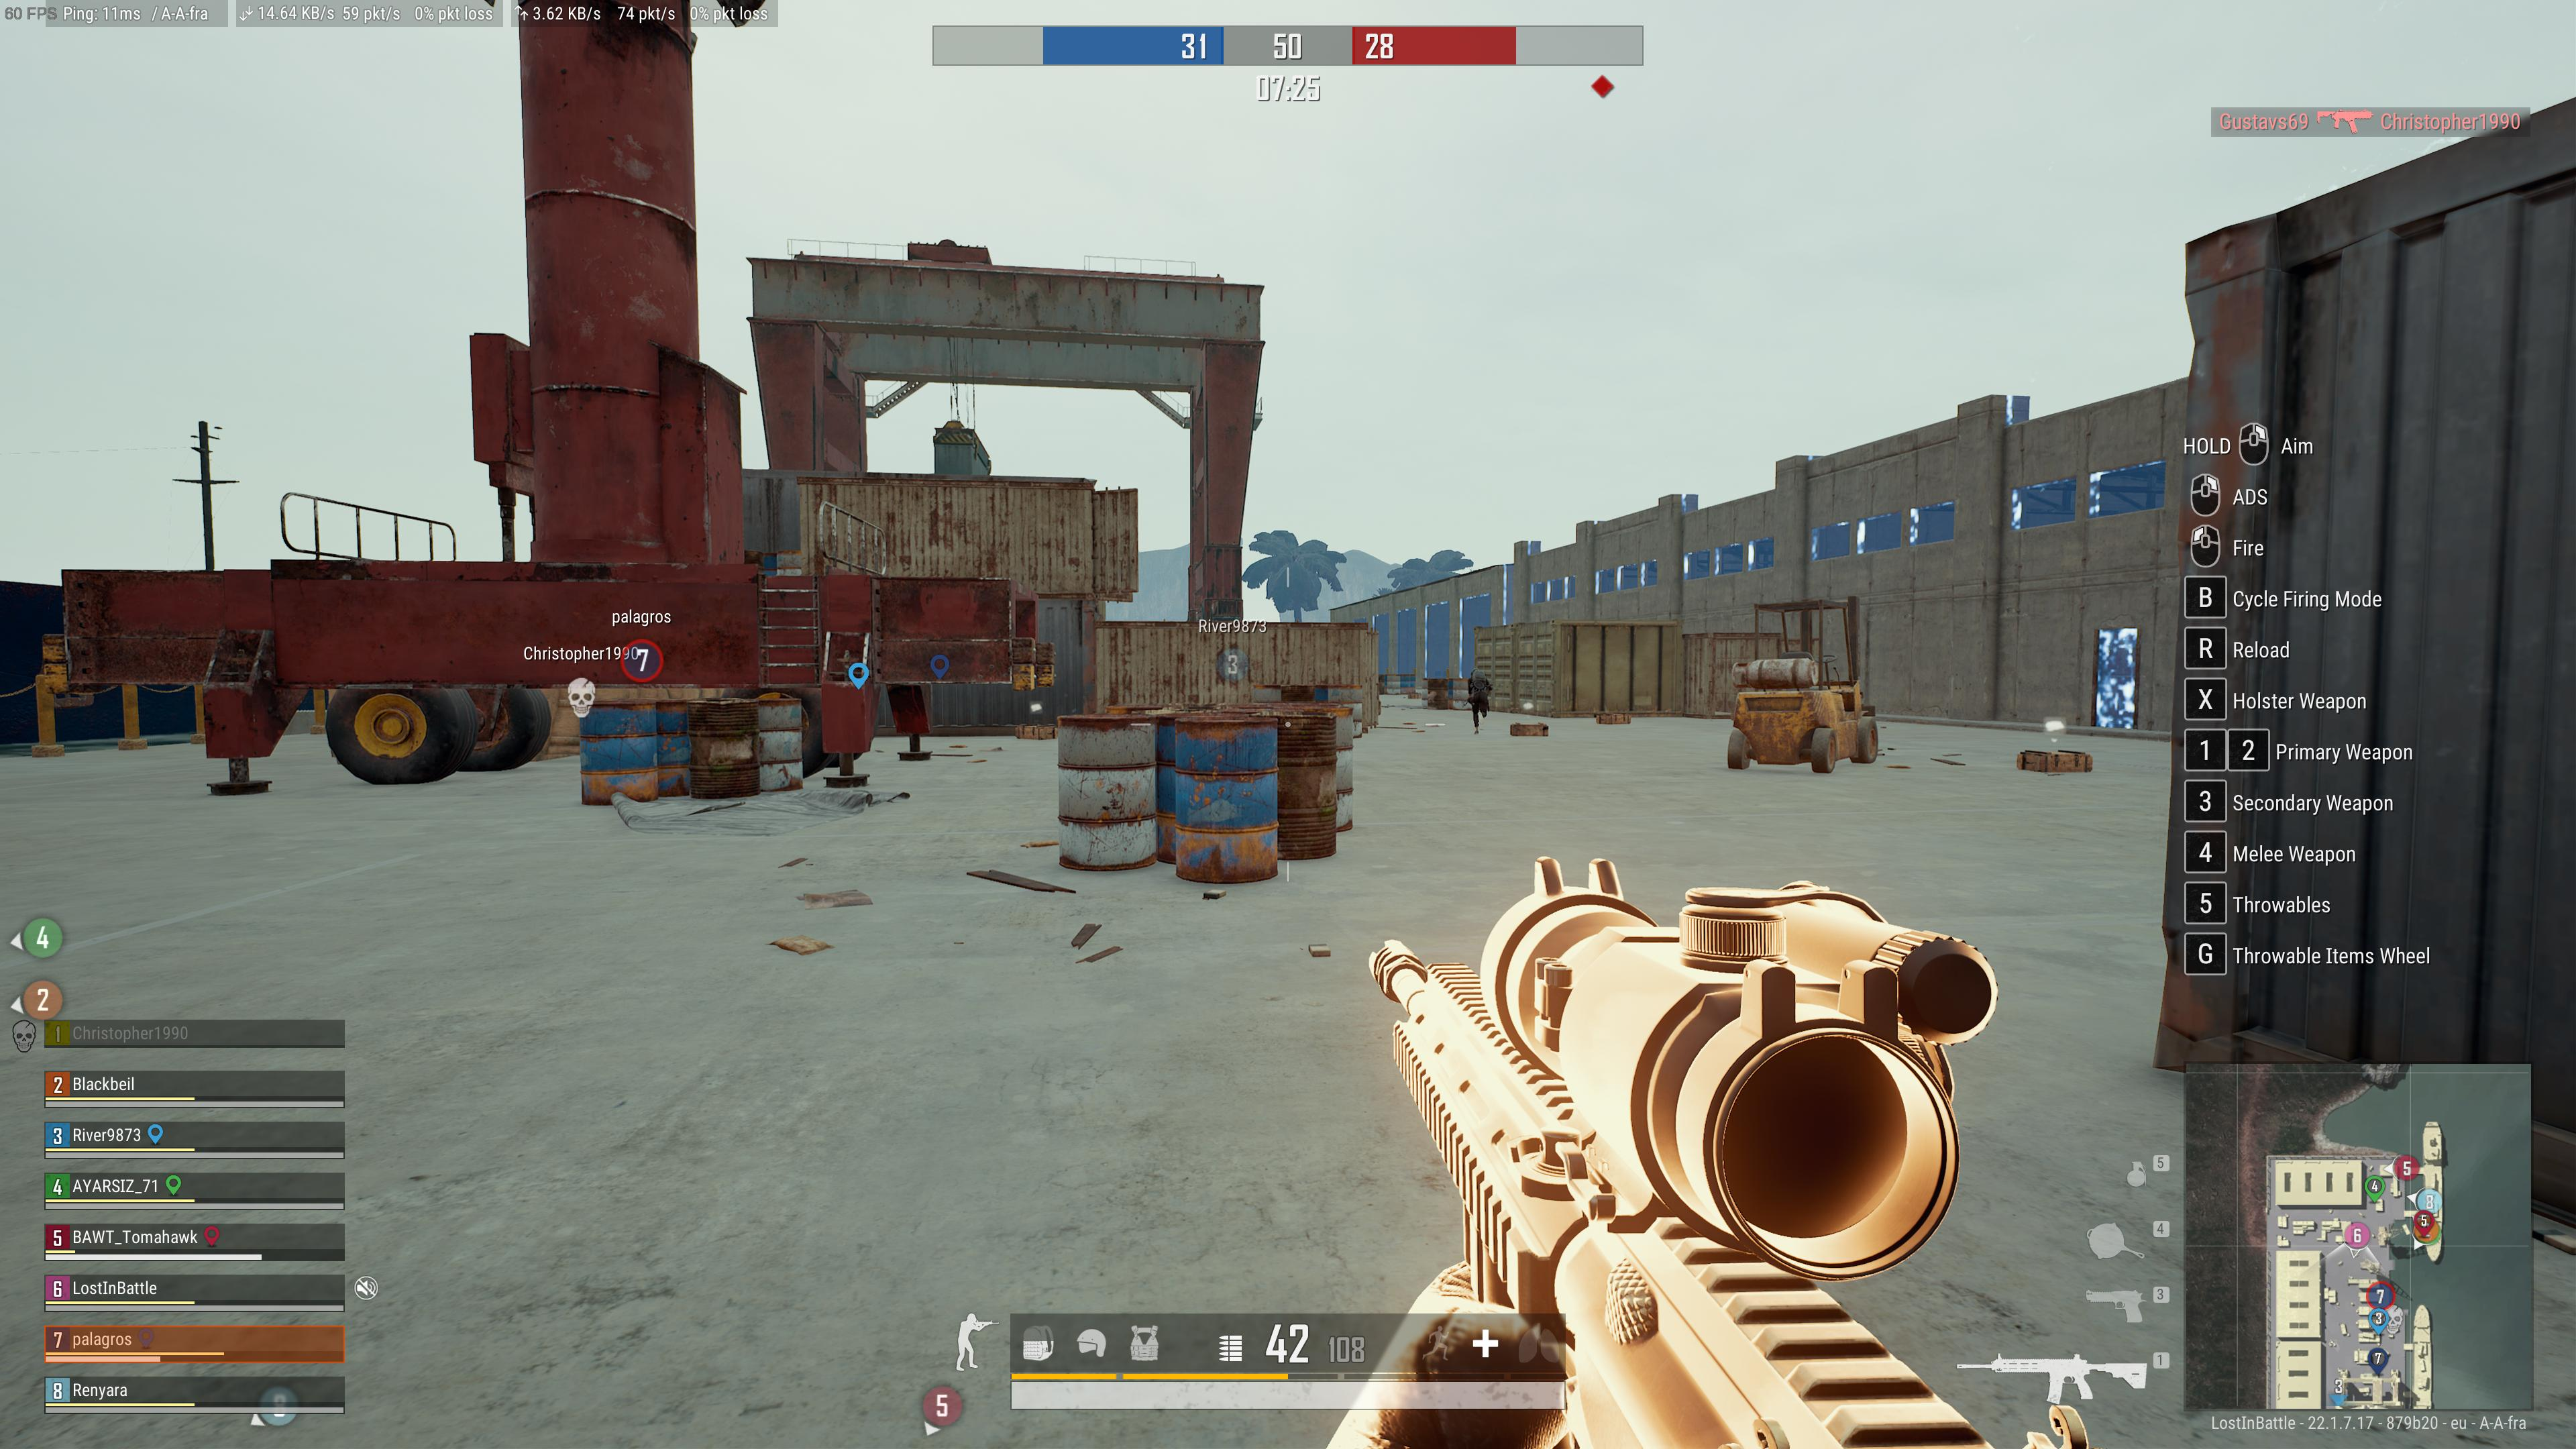enemy: (1465, 667, 1493, 734)
